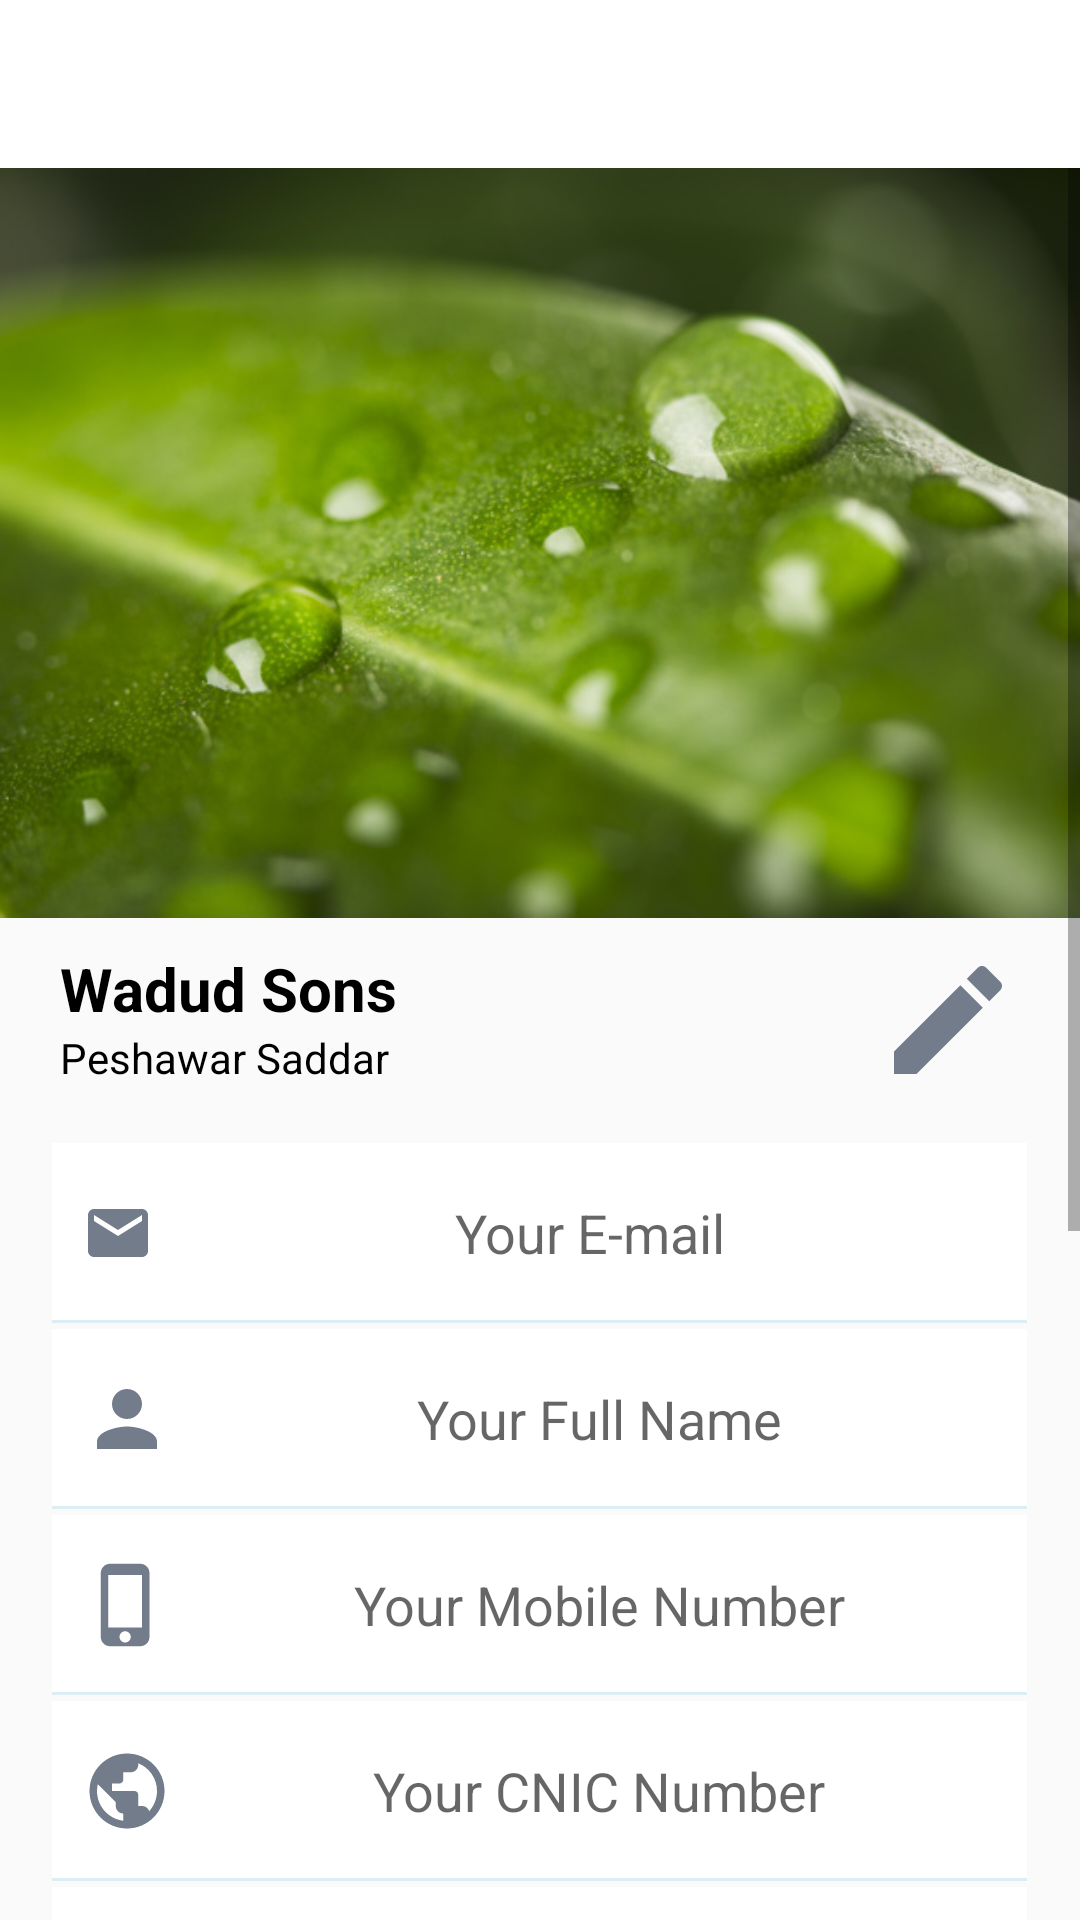

Point at icon controls on the screen. Image size 1080 x 1920, points as (x,y).
edit: (948,1020)
